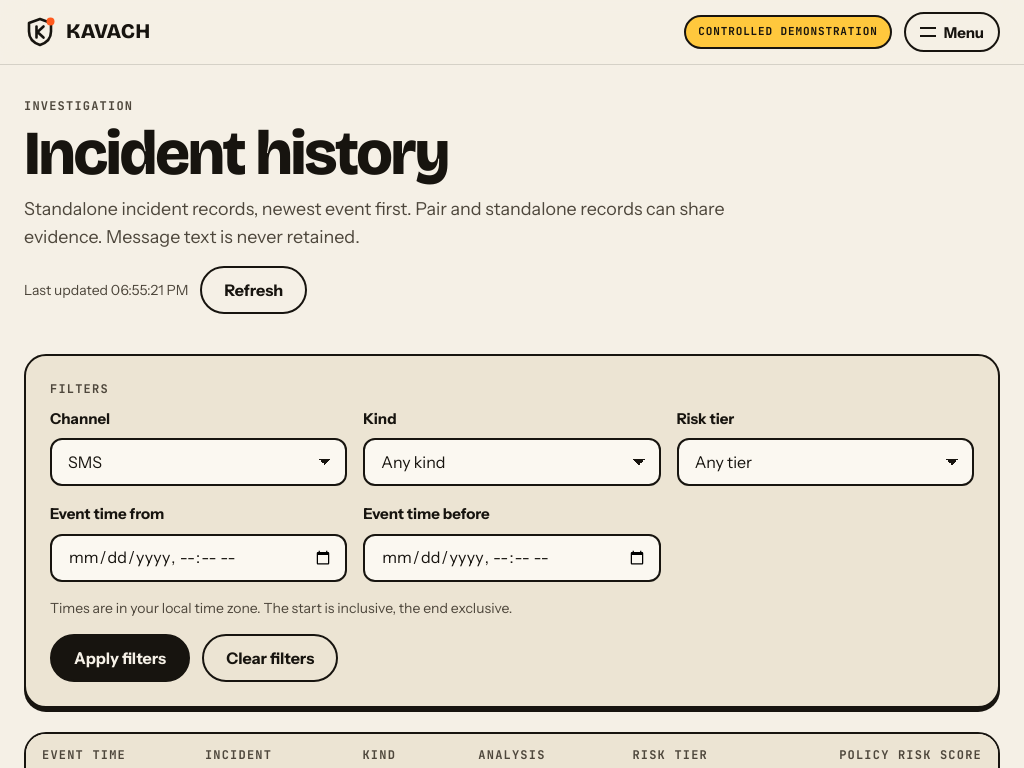
it: incident history › keeps the last records marked stale when a refresh fails
Click the button "Refresh" at (254, 290), box [200, 266, 307, 314]
(page scrolled)
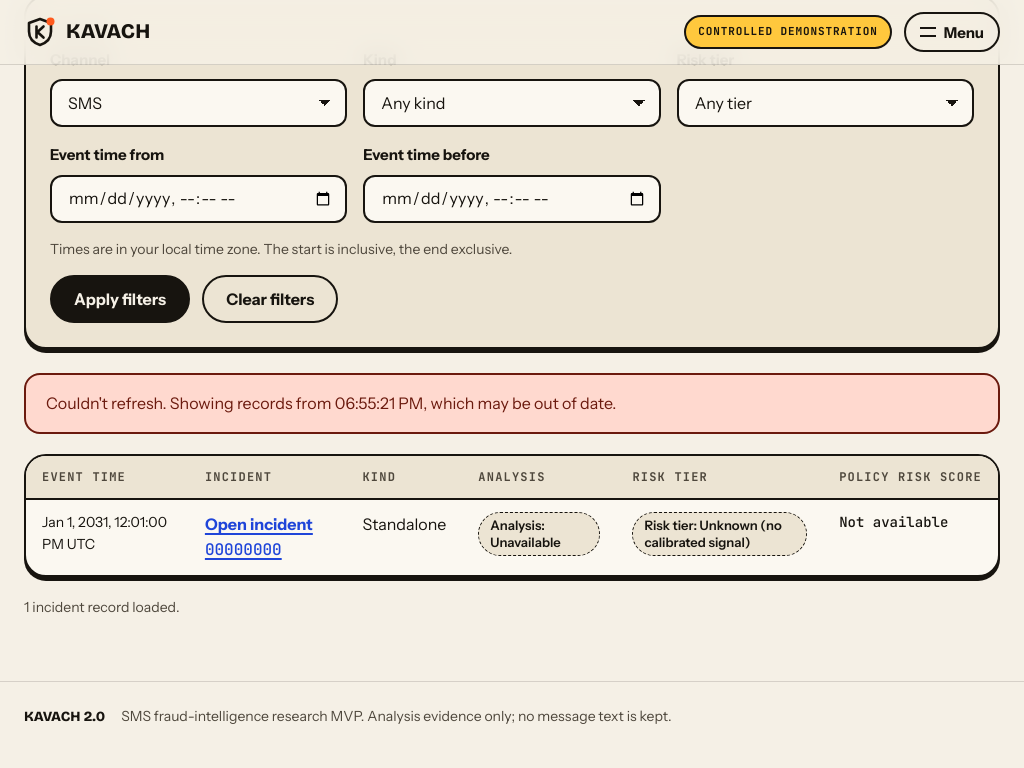
Expected: the table is shown, [26, 456, 998, 575]
Now the text "Couldn't refresh. Showing records from 06:55:21 PM, which may be out of date." is shown, box [24, 373, 1000, 434]
